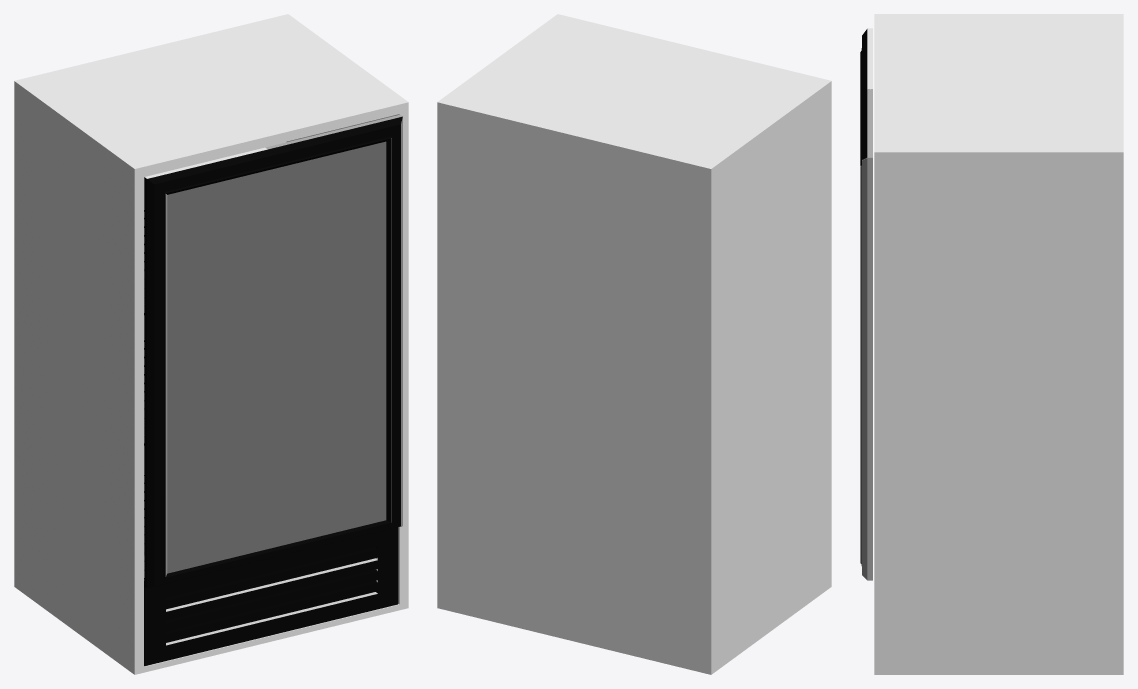
The model's file is Fridge.fbx.
The picture shows the model from 3 angles, left to right: view 1: azimuth 30°, elevation 25°; view 2: azimuth 150°, elevation 25°; view 3: azimuth 270°, elevation 25°; orthographic projection. The views are drawn at different scales.
Parts seen in each view (by area): view 1: Fridge; view 2: Fridge; view 3: Fridge.
Part boxes in pixels (<box>): Fridge: <box>14,14,408,674</box>; Fridge: <box>437,14,831,674</box>; Fridge: <box>860,14,1123,674</box>.
Size of the model in its own units: 50.4 by 88.89 by 40.58.
2 materials, 1 textured.
